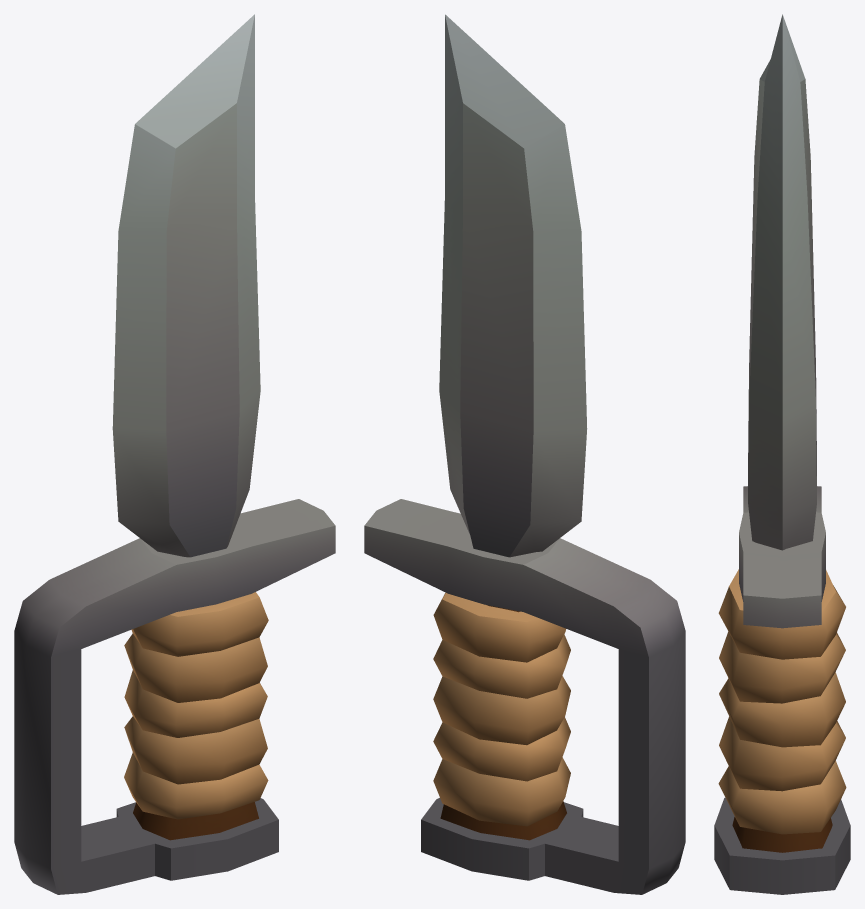
The model's file is Dagger_05.obj.
3 views of the same model, side by side, from view 1: azimuth 30°, elevation 25°; view 2: azimuth 150°, elevation 25°; view 3: azimuth 270°, elevation 25° (orthographic). The views are drawn at different scales.
Visible parts, largest first — view 1: Dagger_05; view 2: Dagger_05; view 3: Dagger_05.
Part boxes in pixels (<box>): Dagger_05: <box>14,14,335,894</box>; Dagger_05: <box>364,14,685,894</box>; Dagger_05: <box>714,14,850,894</box>.
Size of the model in its own units: 0.3197 by 0.8421 by 0.1186.
